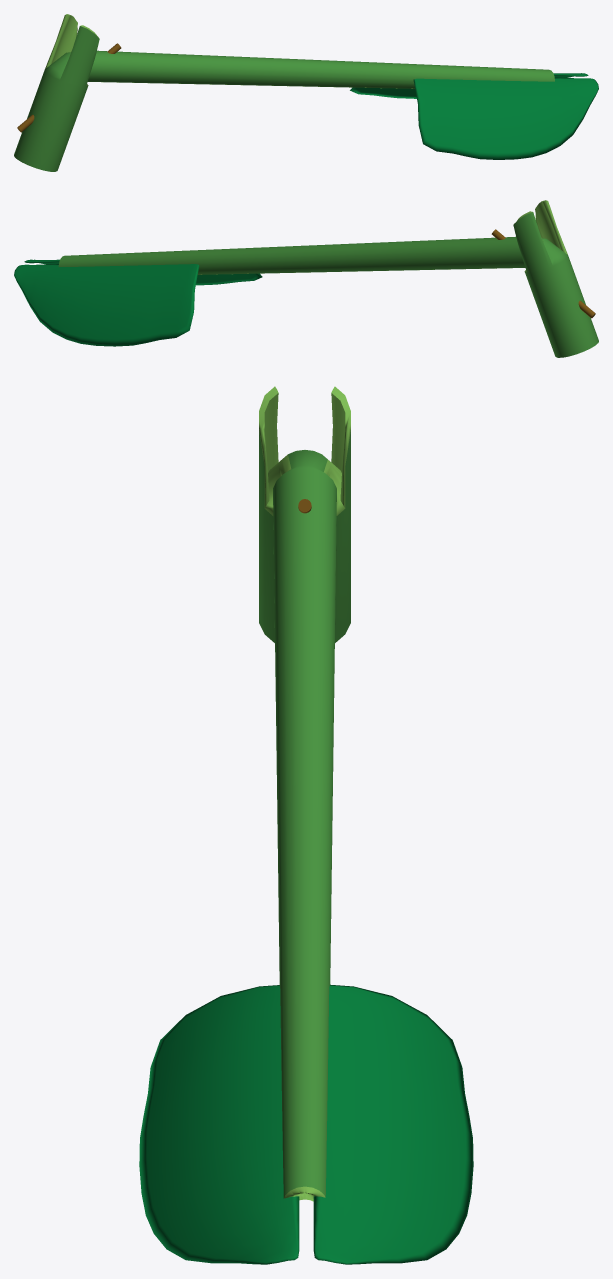
The model's file is bananaHouse.fbx.
The picture shows the model from 3 angles, top to bottom: view 1: azimuth 30°, elevation 25°; view 2: azimuth 150°, elevation 25°; view 3: azimuth 270°, elevation 25°; orthographic projection. The views are drawn at different scales.
Visible parts, largest first — view 1: polySurface4; view 2: polySurface4; view 3: polySurface4.
Part boxes in pixels (x1=…): polySurface4: x1=14, y1=14, x2=598, y2=171; polySurface4: x1=14, y1=200, x2=598, y2=357; polySurface4: x1=139, y1=386, x2=473, y2=1264.
Size of the model in its own units: 28.47 by 10 by 7.18.
